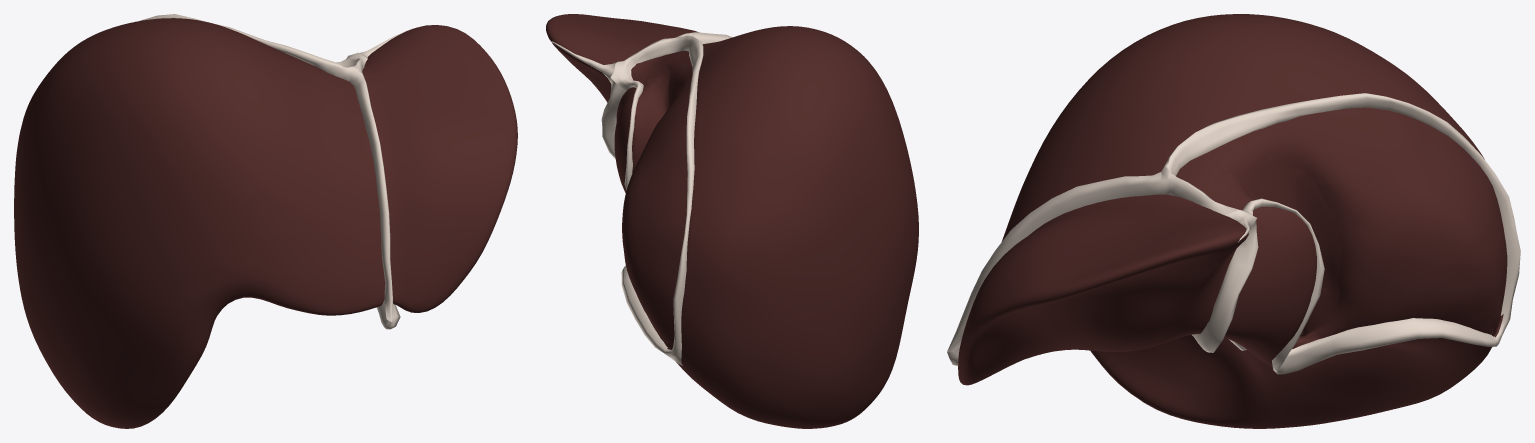
The model's file is liver-male.glb.
3 views of the same model, side by side, from view 1: azimuth 30°, elevation 25°; view 2: azimuth 150°, elevation 25°; view 3: azimuth 270°, elevation 25° (orthographic). The views are drawn at different scales.
Visible parts, largest first — view 1: VH_M_liver_capsule, VH_M_falciform_ligament, VH_M_coronary_ligament_of_liver; view 2: VH_M_liver_capsule, VH_M_bare_area_of_liver, VH_M_coronary_ligament_of_liver, VH_M_caudate_lobe_of_liver, VH_M_ligamentum_venosum, VH_M_right_posterosuperior_segment, VH_M_diaphragmatic_surface, VH_M_triangular_ligament_of_liver; view 3: VH_M_liver_capsule, VH_M_bare_area_of_liver, VH_M_coronary_ligament_of_liver, VH_M_falciform_ligament, VH_M_caudate_lobe_of_liver, VH_M_diaphragmatic_surface, VH_M_ligamentum_venosum, VH_M_right_posterosuperior_segment.
Part boxes in pixels (x1,y1,x2,y2): VH_M_liver_capsule: (14,18,517,428); VH_M_falciform_ligament: (349,70,393,321); VH_M_coronary_ligament_of_liver: (140,14,367,81); VH_M_liver_capsule: (546,14,918,428); VH_M_bare_area_of_liver: (622,50,692,347); VH_M_coronary_ligament_of_liver: (610,35,703,365); VH_M_caudate_lobe_of_liver: (632,54,688,161); VH_M_ligamentum_venosum: (601,78,626,158); VH_M_right_posterosuperior_segment: (627,118,687,311); VH_M_diaphragmatic_surface: (632,75,669,341); VH_M_triangular_ligament_of_liver: (551,41,616,82); VH_M_liver_capsule: (958,14,1503,428); VH_M_bare_area_of_liver: (1176,107,1507,344); VH_M_coronary_ligament_of_liver: (1161,93,1520,374); VH_M_falciform_ligament: (947,172,1165,351); VH_M_caudate_lobe_of_liver: (1190,151,1341,348); VH_M_diaphragmatic_surface: (1226,166,1496,345); VH_M_ligamentum_venosum: (1192,220,1258,352); VH_M_right_posterosuperior_segment: (1339,107,1499,308).
Size of the model in its own units: 0.1914 by 0.1746 by 0.2018.
